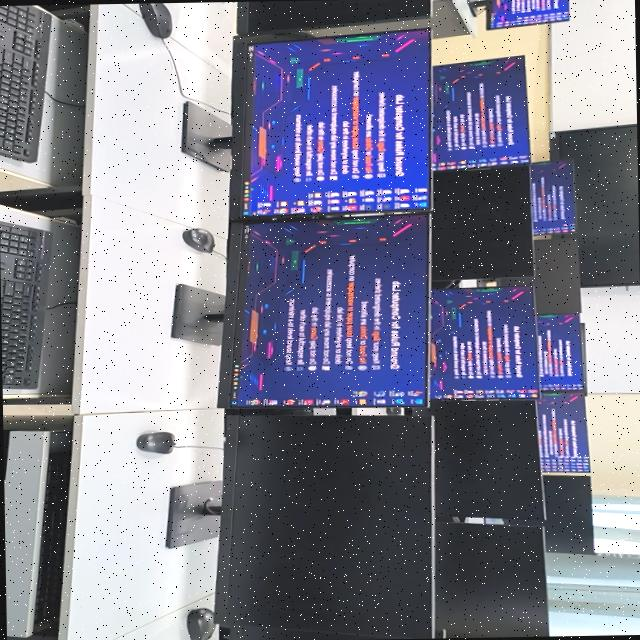Chair: (232, 32, 314, 51)
Digital board: (550, 124, 639, 287)
Keyboard: (0, 221, 51, 389), (0, 5, 49, 162), (33, 452, 69, 630)
Monitor: (165, 413, 433, 638), (170, 214, 428, 408), (181, 30, 431, 216), (413, 400, 542, 521), (435, 522, 547, 638), (430, 286, 538, 399), (431, 163, 533, 281), (432, 56, 528, 170), (503, 475, 593, 553), (227, 0, 430, 33), (496, 236, 580, 314), (536, 392, 589, 473), (537, 314, 583, 391), (530, 160, 575, 235), (466, 0, 568, 29), (219, 626, 405, 640)
Mouse: (138, 3, 171, 38), (186, 608, 215, 640), (135, 432, 174, 454), (182, 228, 214, 252), (386, 408, 403, 415)
